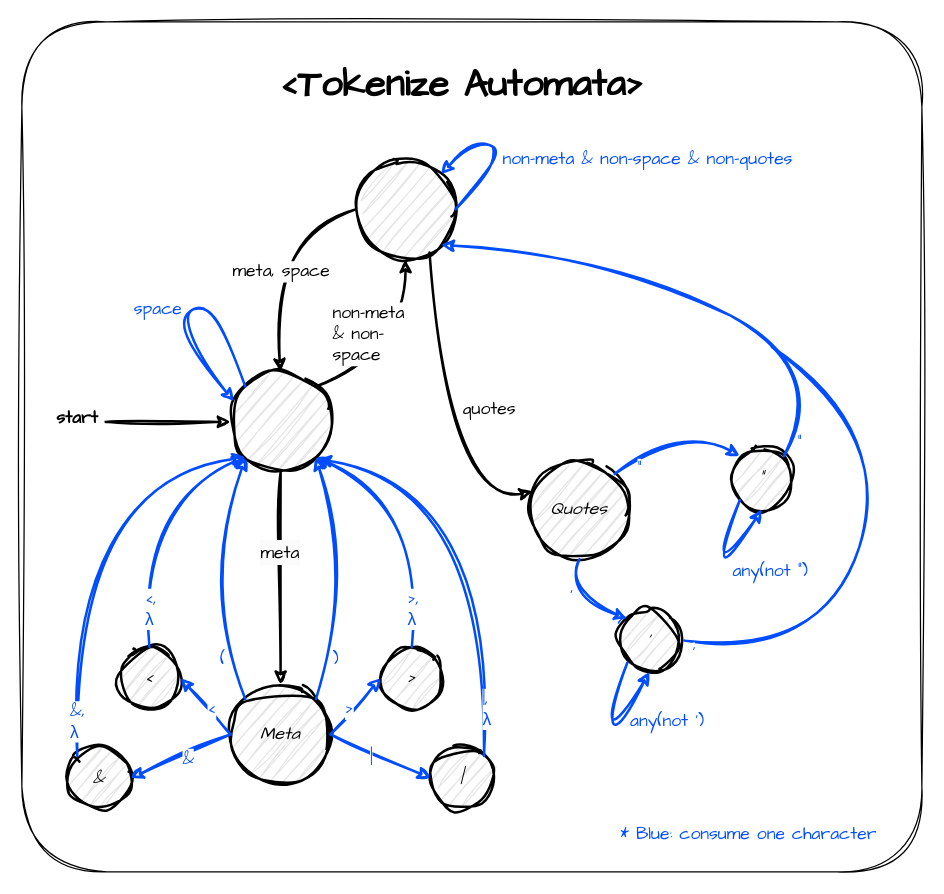
Image size: 944x894. Some labels were removed from this diagram. Here are the shapes that lost their labels. From the top down, the centre of each, then its label:
At point (405, 209): "Word".
At point (280, 421): "Default".
